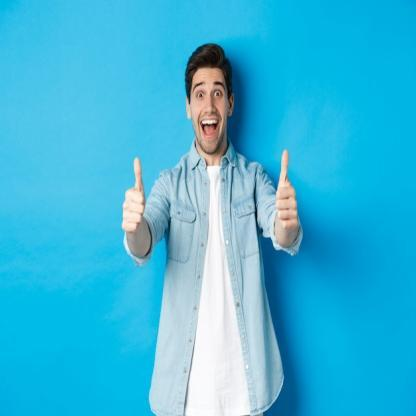thumb_up: (271, 146, 304, 236), (121, 154, 150, 238)
